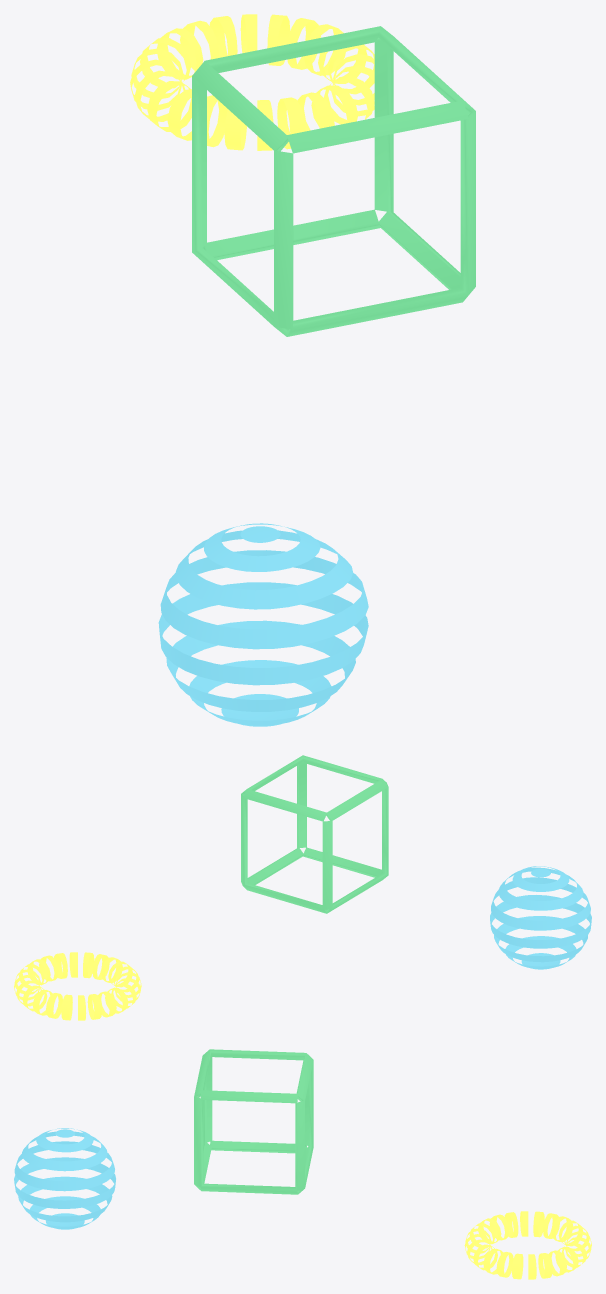
3 views of the same model, one above another, from view 1: azimuth 30°, elevation 25°; view 2: azimuth 150°, elevation 25°; view 3: azimuth 270°, elevation 25° (orthographic). The views are drawn at different scales.
Parts seen in each view (by area): view 1: Cube, Sphere, Torus; view 2: Cube, Sphere, Torus; view 3: Cube, Sphere, Torus.
Part boxes in pixels (bbox=[...]): Cube: bbox=[192, 26, 475, 336]; Sphere: bbox=[158, 523, 368, 726]; Torus: bbox=[130, 14, 374, 150]; Cube: bbox=[241, 755, 388, 913]; Sphere: bbox=[490, 866, 591, 969]; Torus: bbox=[14, 952, 141, 1020]; Cube: bbox=[194, 1049, 313, 1194]; Sphere: bbox=[14, 1128, 115, 1229]; Torus: bbox=[464, 1211, 591, 1279].
Bounding box in the file's own units: 7.47 × 4.71 × 11.35.
